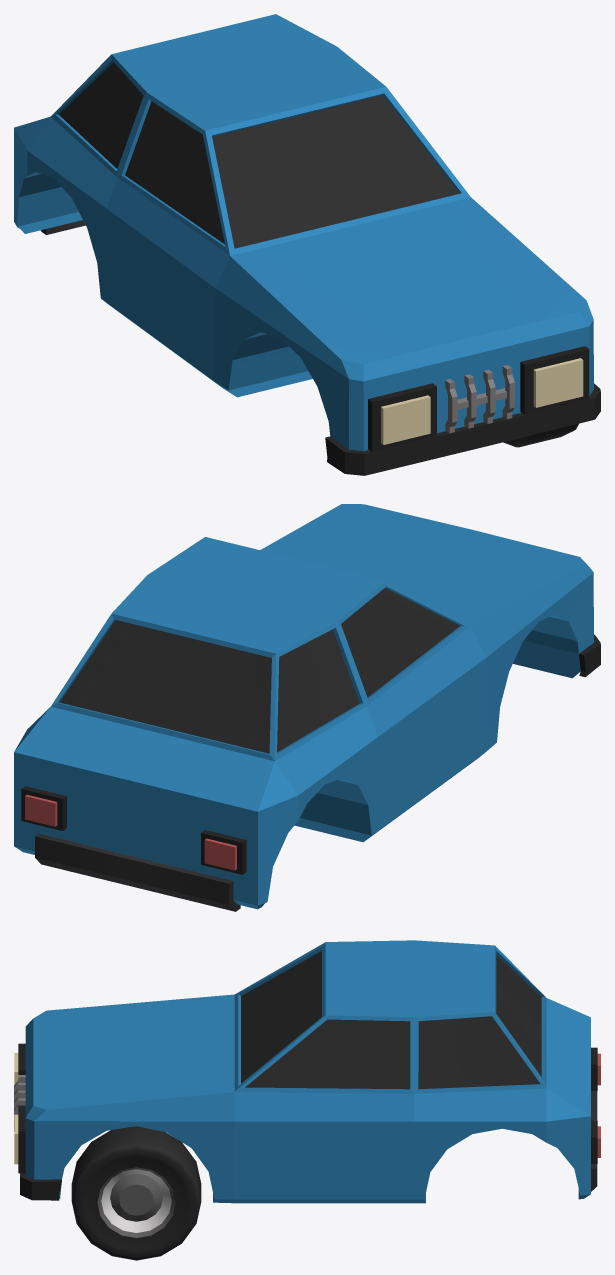
File: finnicky.glb
3 renders of one model, top to bottom at view 1: azimuth 30°, elevation 25°; view 2: azimuth 150°, elevation 25°; view 3: azimuth 270°, elevation 25°, orthographic. The views are drawn at different scales.
Parts seen in each view (by area): view 1: chassi, wheel; view 2: chassi; view 3: chassi, wheel.
Boxes of the visible parts, left/top/right/bottom form: chassi: left=14, top=14, right=600, bottom=475; wheel: left=503, top=423, right=578, bottom=447; chassi: left=14, top=504, right=600, bottom=911; chassi: left=14, top=940, right=600, bottom=1203; wheel: left=71, top=1126, right=201, bottom=1260.
Size of the model in its own units: 2.05 by 1.92 by 4.52.
1 material, 1 textured.
